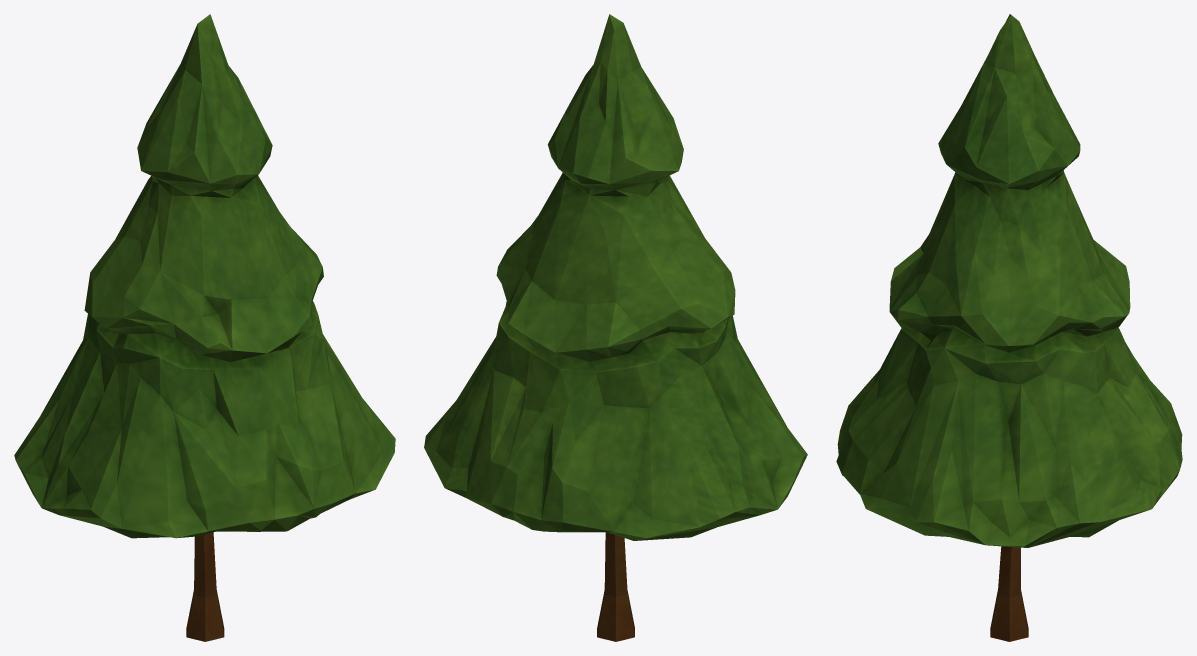
File: scots-pine-plant.glb
3 renders of one model, left to right at view 1: azimuth 30°, elevation 25°; view 2: azimuth 150°, elevation 25°; view 3: azimuth 270°, elevation 25°, orthographic.
Parts seen in each view (by area): view 1: PineTree_mesh; view 2: PineTree_mesh; view 3: PineTree_mesh.
Part boxes in pixels (<box>): PineTree_mesh: <box>14,14,395,641</box>; PineTree_mesh: <box>424,14,807,641</box>; PineTree_mesh: <box>836,14,1182,641</box>.
Bounding box in the file's own units: 0.5518 × 1 × 0.5054.
1 material, 1 textured.
